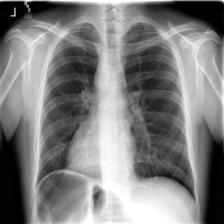normal: (32, 19, 199, 224)
